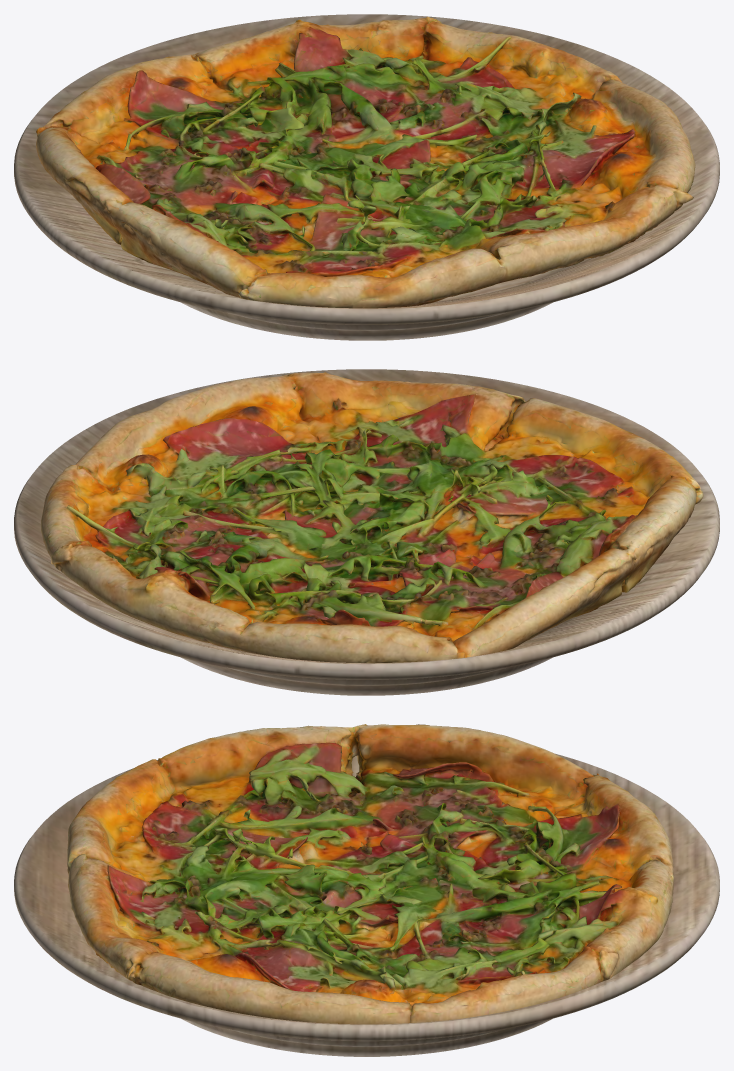
Rendered from pizza.glb.
3 views of the same model, one above another, from view 1: azimuth 30°, elevation 25°; view 2: azimuth 150°, elevation 25°; view 3: azimuth 270°, elevation 25° (orthographic).
Visible parts, largest first — view 1: pizza, Tarelka001; view 2: pizza, Tarelka001; view 3: pizza, Tarelka001.
Boxes of the visible parts, bbox=[...] form: pizza: bbox=[36, 16, 695, 308]; Tarelka001: bbox=[14, 14, 719, 340]; pizza: bbox=[41, 372, 703, 663]; Tarelka001: bbox=[14, 369, 719, 695]; pizza: bbox=[67, 724, 673, 1024]; Tarelka001: bbox=[14, 753, 719, 1056].
Size of the model in its own units: 0.6031 by 0.1028 by 0.6031.
2 materials, 2 textured.
